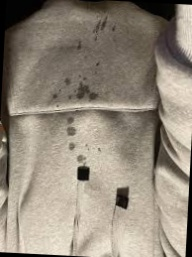oil: (88, 16, 120, 35), (74, 82, 97, 102), (64, 116, 76, 136), (71, 149, 88, 162), (92, 139, 103, 153), (66, 137, 77, 150), (75, 41, 82, 53), (63, 78, 71, 86), (51, 91, 57, 98), (92, 61, 98, 68), (56, 102, 64, 107)
